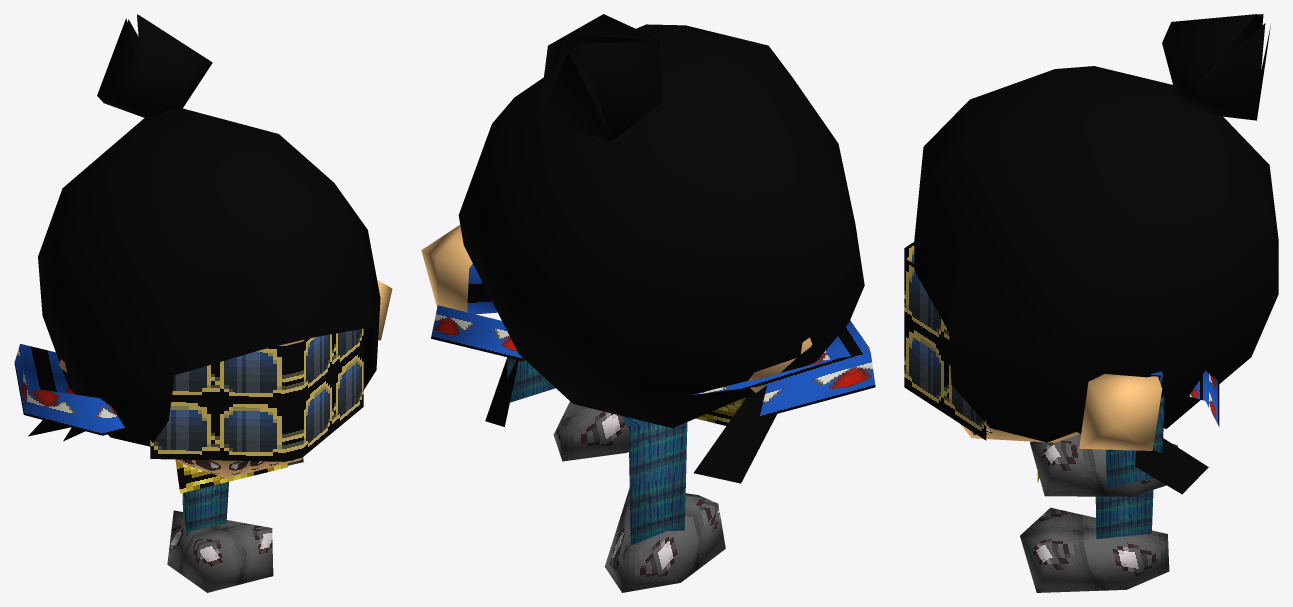
3 renders of one model, left to right at view 1: azimuth 30°, elevation 25°; view 2: azimuth 150°, elevation 25°; view 3: azimuth 270°, elevation 25°, orthographic. The views are drawn at different scales.
Parts seen in each view (by area): view 1: pmd50_00_02; view 2: pmd50_00_02; view 3: pmd50_00_02.
Boxes of the visible parts, x1,y1,x2,y2 form: pmd50_00_02: [14, 14, 392, 592]; pmd50_00_02: [421, 14, 875, 592]; pmd50_00_02: [904, 14, 1278, 592].
Bounding box in the file's own units: 1.15 × 1.46 × 0.886.
8 materials, 8 textured.
